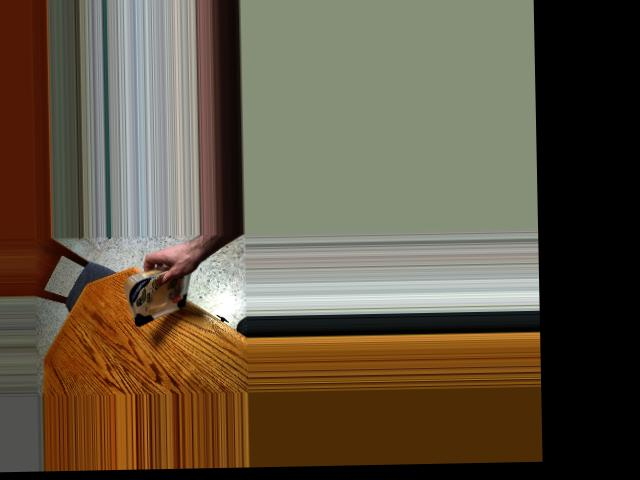cheese: (127, 269, 198, 321)
